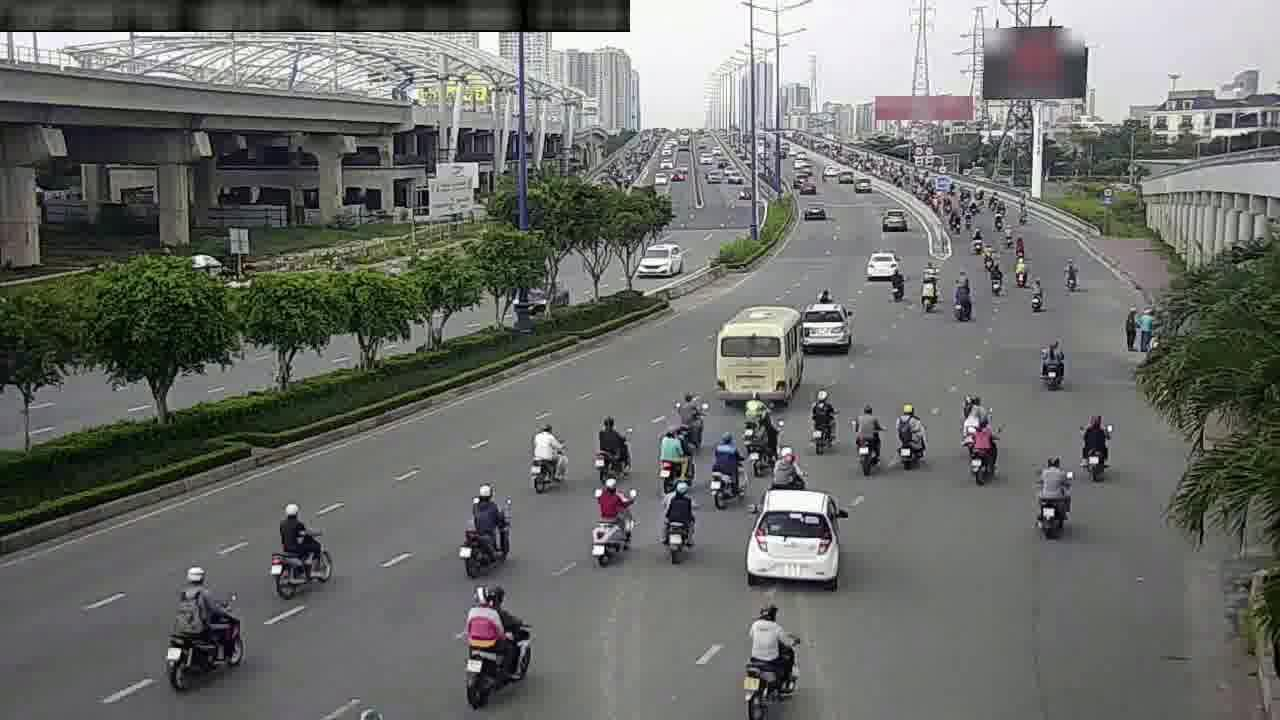14: (720, 302, 802, 390)
container: (746, 479, 846, 588), (791, 299, 852, 354), (859, 249, 902, 280)
motorbike: (161, 562, 249, 689), (459, 583, 536, 702), (739, 599, 806, 705), (266, 496, 335, 595), (457, 480, 515, 570), (586, 478, 636, 569), (1028, 450, 1075, 536), (655, 480, 701, 564), (524, 415, 570, 492), (705, 428, 747, 505), (1072, 407, 1116, 479), (960, 407, 1001, 482), (589, 409, 632, 478), (888, 398, 927, 470), (742, 408, 780, 479), (848, 400, 885, 472), (766, 430, 805, 495), (803, 388, 841, 454), (652, 422, 690, 487), (668, 387, 705, 445), (735, 385, 771, 442), (1033, 334, 1068, 391), (953, 392, 984, 444), (948, 278, 976, 324), (914, 269, 940, 312), (883, 264, 910, 305), (1023, 275, 1049, 316), (1057, 255, 1083, 294), (982, 258, 1006, 298), (1009, 254, 1033, 289)
